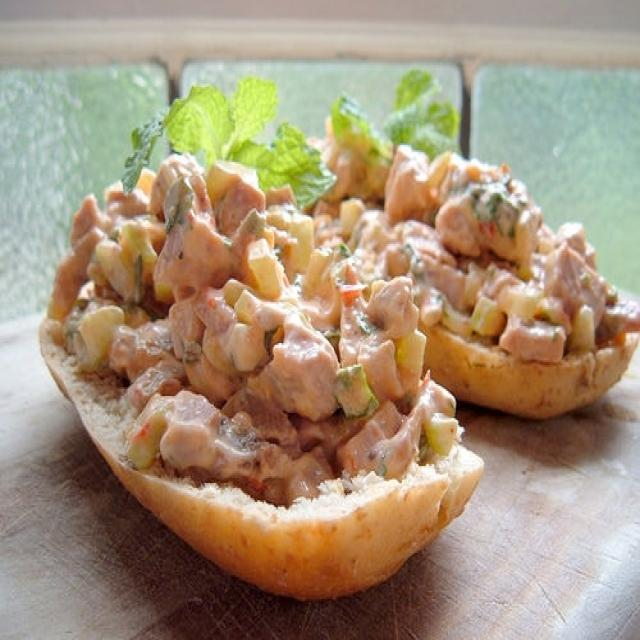猪肉菜式: (26, 54, 626, 588)
